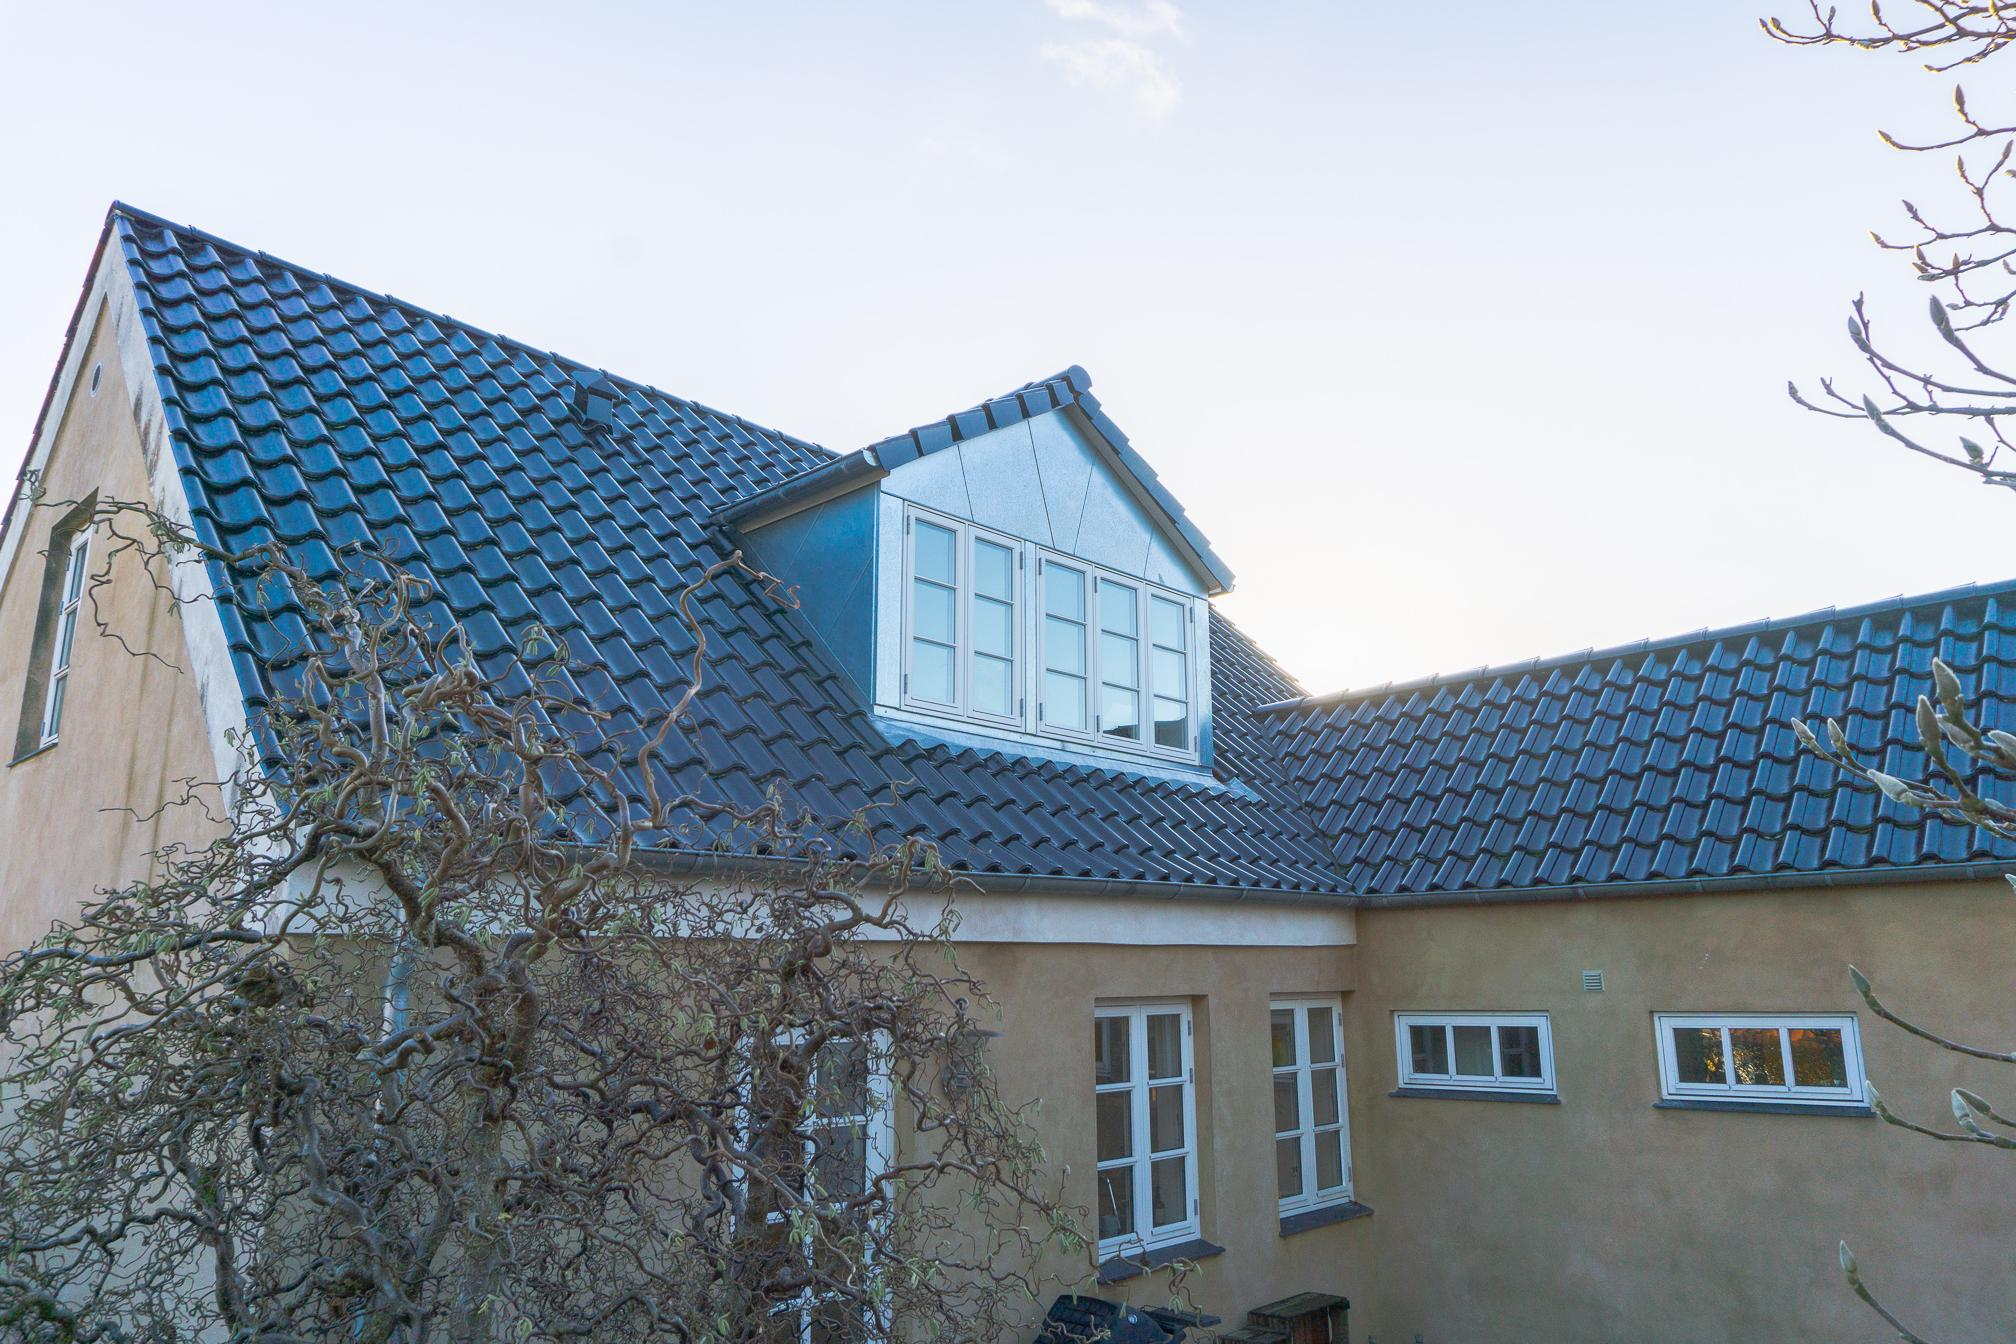kvist windows: (645, 345, 1321, 828)
